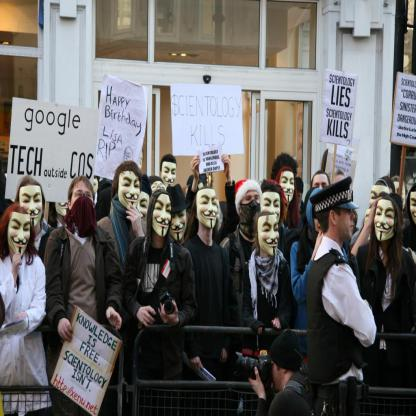face: (20, 189, 43, 228), (10, 217, 31, 258), (259, 218, 280, 257), (375, 203, 395, 242), (153, 196, 172, 237), (121, 174, 141, 211), (72, 186, 95, 217), (200, 192, 219, 229), (339, 202, 356, 241), (169, 208, 187, 242), (263, 196, 281, 226), (242, 191, 260, 221), (313, 204, 330, 234), (372, 189, 390, 217), (56, 188, 73, 217), (134, 196, 150, 223), (282, 173, 296, 203), (313, 179, 330, 203), (391, 184, 405, 213), (272, 357, 283, 393), (163, 164, 177, 190), (87, 175, 99, 195), (152, 186, 166, 203), (202, 172, 212, 189), (411, 194, 416, 225), (294, 193, 302, 204)
